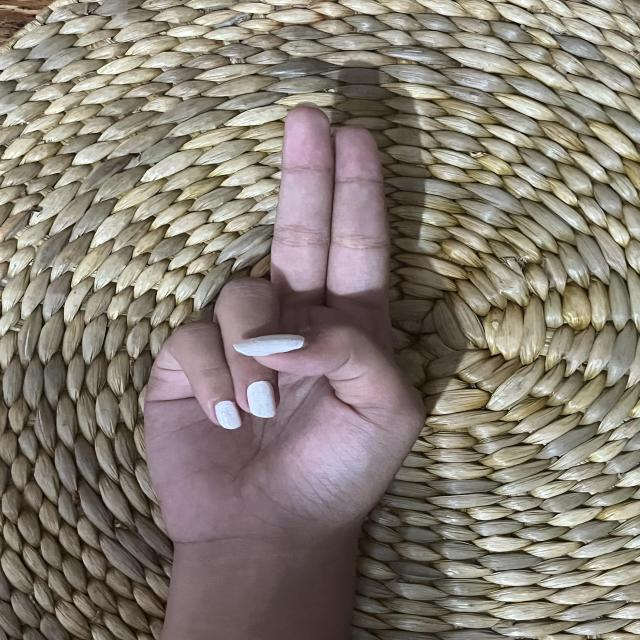U: (140, 102, 429, 544)
